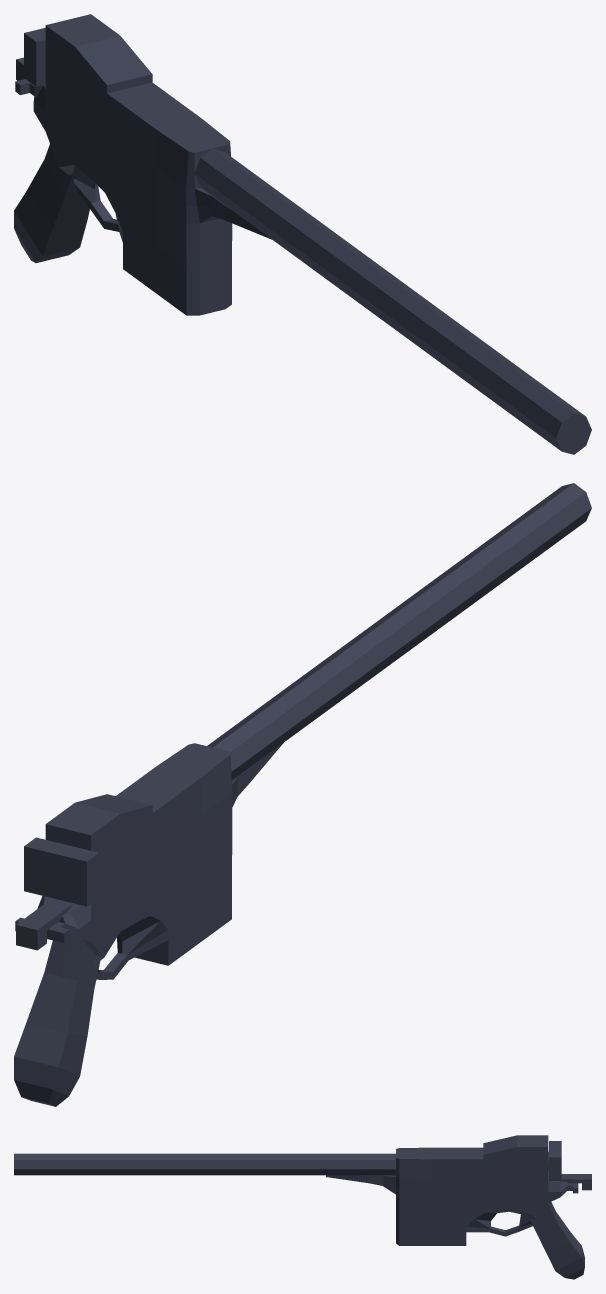
The model's file is pistol.glb.
3 views of the same model, one above another, from view 1: azimuth 30°, elevation 25°; view 2: azimuth 150°, elevation 25°; view 3: azimuth 270°, elevation 25° (orthographic). The views are drawn at different scales.
Visible parts, largest first — view 1: pistol, slide; view 2: pistol, slide; view 3: pistol, slide.
Part boxes in pixels (<box>): pistol: <box>14,14,591,454</box>; slide: <box>24,28,45,86</box>; pistol: <box>14,483,591,1106</box>; slide: <box>24,837,99,906</box>; pistol: <box>14,1135,591,1279</box>; slide: <box>548,1141,561,1180</box>.
Bounding box in the file's own units: 0.0435 × 0.169 × 0.6546.
